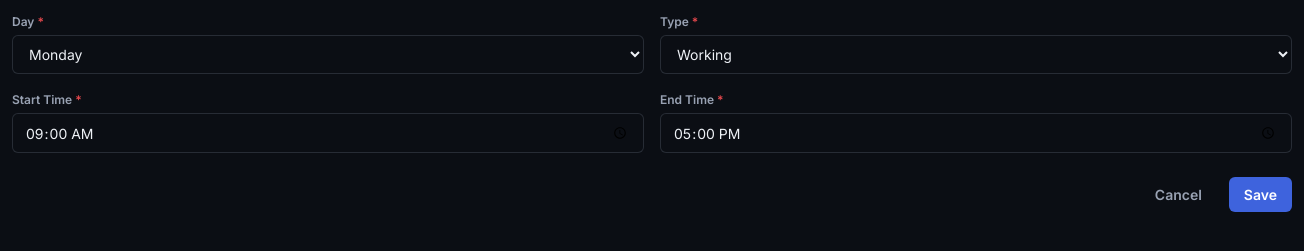
Test: AvailabilityForm › validates that end time must be after start time
This screenshot has width=1304, height=251.
Replace the text in the time field labelled "Start Time *" with "14:00": point(328, 133) top-left (12, 113), bottom-right (644, 153)
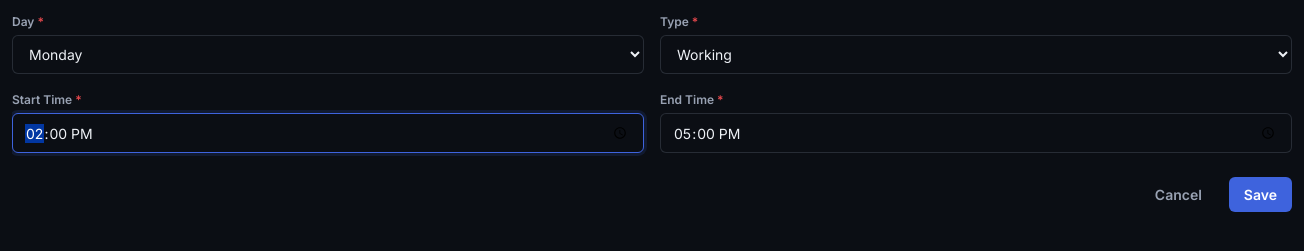
Replace the text in the time field labelled "End Time *" with "10:00": point(976, 133) top-left (660, 113), bottom-right (1292, 153)
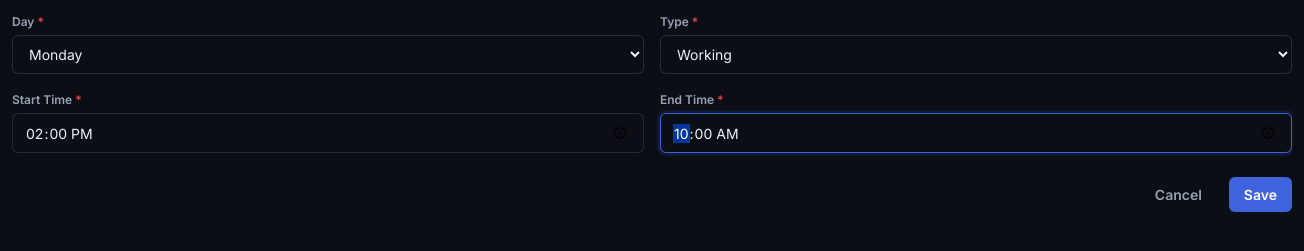
Click the button "Save": point(1260, 195) top-left (1229, 177), bottom-right (1292, 212)
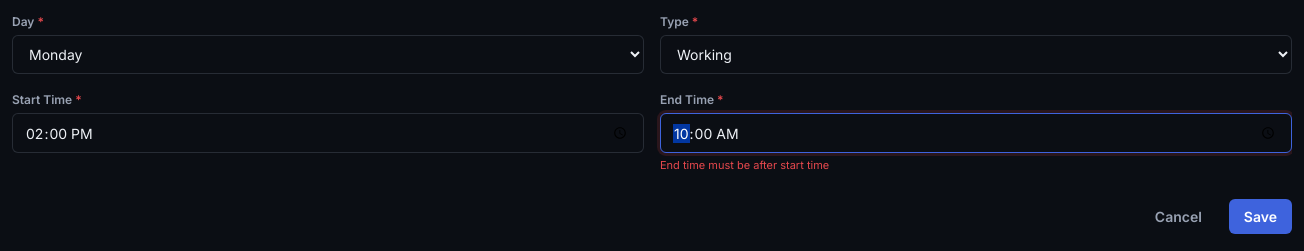
Expected: the text "End time must be after start time" is shown, top-left (660, 158), bottom-right (829, 172)
